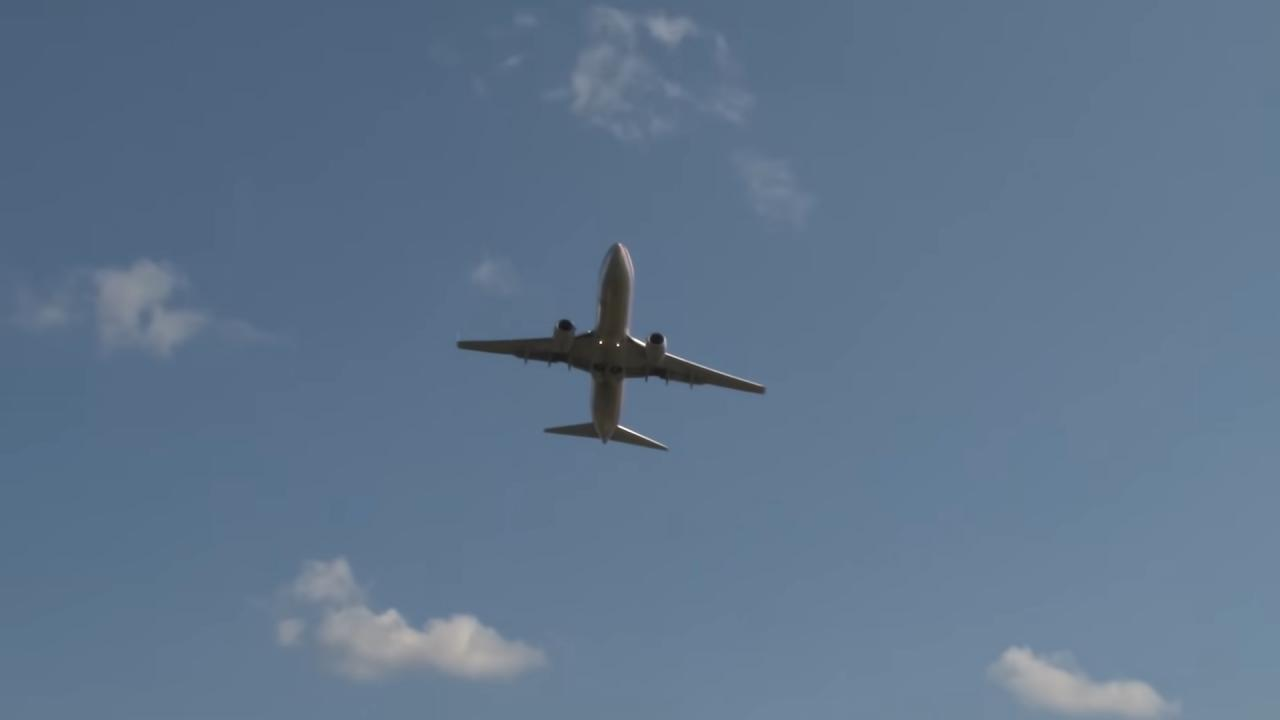Airplane: (436, 230, 778, 464)
